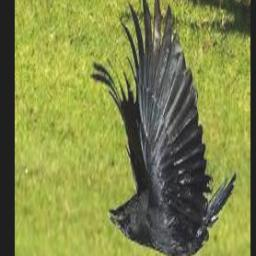Crow: (90, 0, 237, 256)
